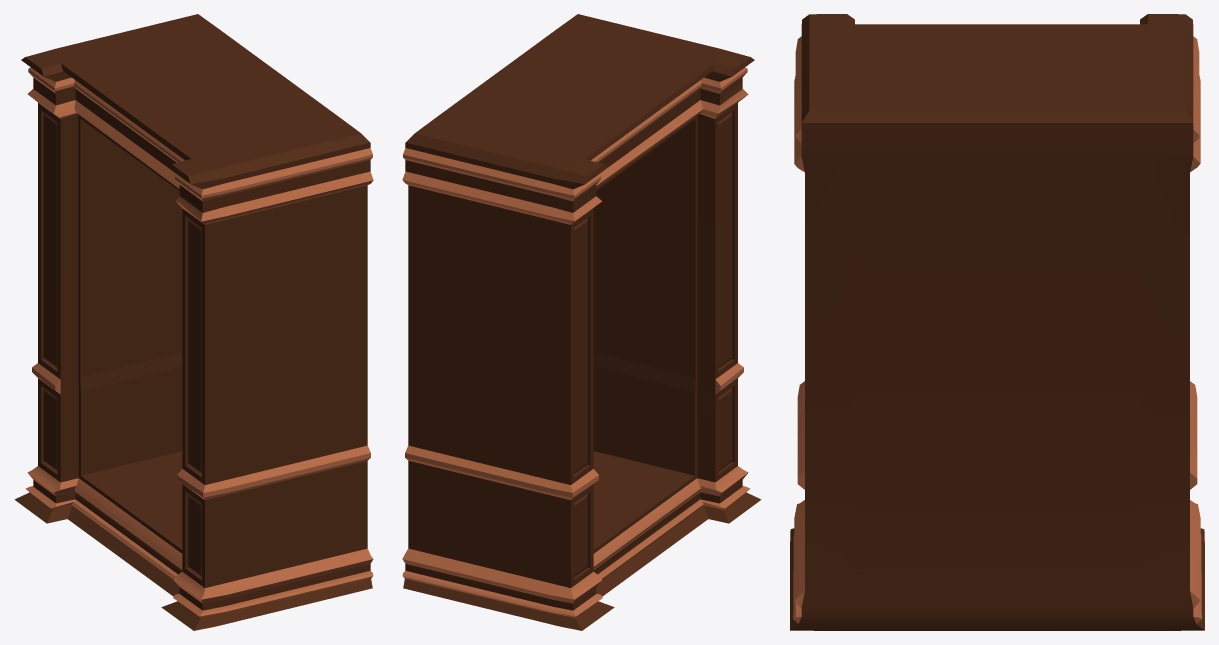
Rendered from armario.FBX.
The picture shows the model from 3 angles, left to right: view 1: azimuth 30°, elevation 25°; view 2: azimuth 150°, elevation 25°; view 3: azimuth 270°, elevation 25°; orthographic projection. The views are drawn at different scales.
Visible parts, largest first — view 1: Box001; view 2: Box001; view 3: Box001.
Boxes of the visible parts, x1,y1,x2,y2 form: Box001: [14, 14, 373, 630]; Box001: [402, 14, 761, 630]; Box001: [790, 14, 1204, 630].
Bounding box in the file's own units: 54.74 × 130 × 93.92.
